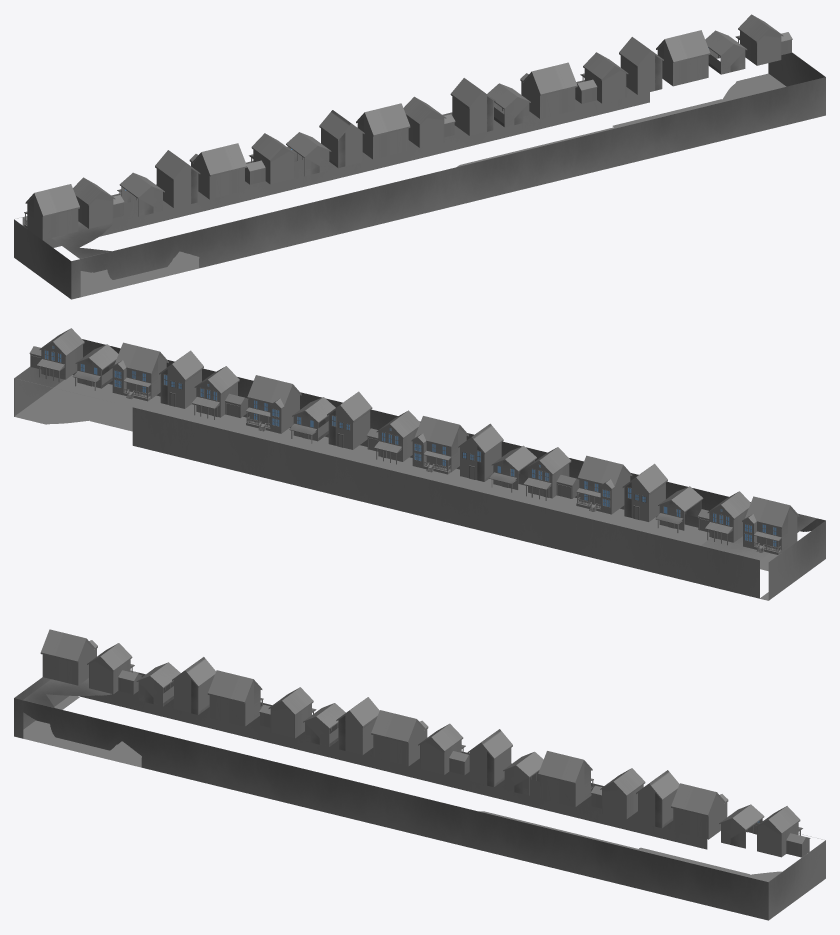
File: CASASCONJUNTO.fbx
3 views of the same model, one above another, from view 1: azimuth 30°, elevation 25°; view 2: azimuth 150°, elevation 25°; view 3: azimuth 330°, elevation 25° (orthographic).
Parts seen in each view (by area): view 1: Acera, Casa.017, Casa.005, Casa.012, Casa.003, Casa.009, Casa.004, Casa.010, Casa.007, Casa.014, Casa.002, Casa (+7 smaller); view 2: Acera, Casa.017, Casa.003, Casa.005, Casa.009, Casa.012, Casa.004, Casa.010, Casa.007, Casa.002, Casa.014, Casa (+7 smaller); view 3: Acera, Casa.003, Casa.012, Casa.005, Casa.009, Casa.017, Casa.002, Casa.015, Casa.008, Casa.007, Casa.010, Casa.004 (+7 smaller).
Part boxes in pixels (x1,y1,x2,y2): Acera: (14,52,825,299); Casa.017: (24,184,79,239); Casa.005: (520,62,577,118); Casa.012: (189,143,246,199); Casa.003: (656,30,710,86); Casa.009: (356,103,410,159); Casa.004: (575,52,628,103); Casa.010: (245,133,296,184); Casa.007: (450,78,495,135); Casa.014: (155,150,200,207); Casa.002: (735,14,792,65); Casa: (619,37,663,94); Acera: (14,339,825,600); Casa.017: (742,496,799,554); Casa.003: (111,342,168,401); Casa.005: (246,375,301,433); Casa.009: (411,416,468,474); Casa.012: (576,455,632,514); Casa.004: (192,366,248,419); Casa.010: (523,447,579,500); Casa.007: (327,391,372,449); Casa.002: (29,328,84,382); Casa.014: (622,463,667,521); Casa: (159,350,203,408); Acera: (14,670,825,920); Casa.003: (671,783,728,839); Casa.012: (207,670,263,726); Casa.005: (538,751,593,806); Casa.009: (371,710,428,766); Casa.017: (40,629,97,685); Casa.002: (755,806,810,857); Casa.015: (87,643,142,694); Casa.008: (418,723,469,775); Casa.007: (467,729,512,786); Casa.010: (259,687,316,738); Casa.004: (591,768,645,819).
Size of the model in its own units: 42747 by 4366 by 5624.
